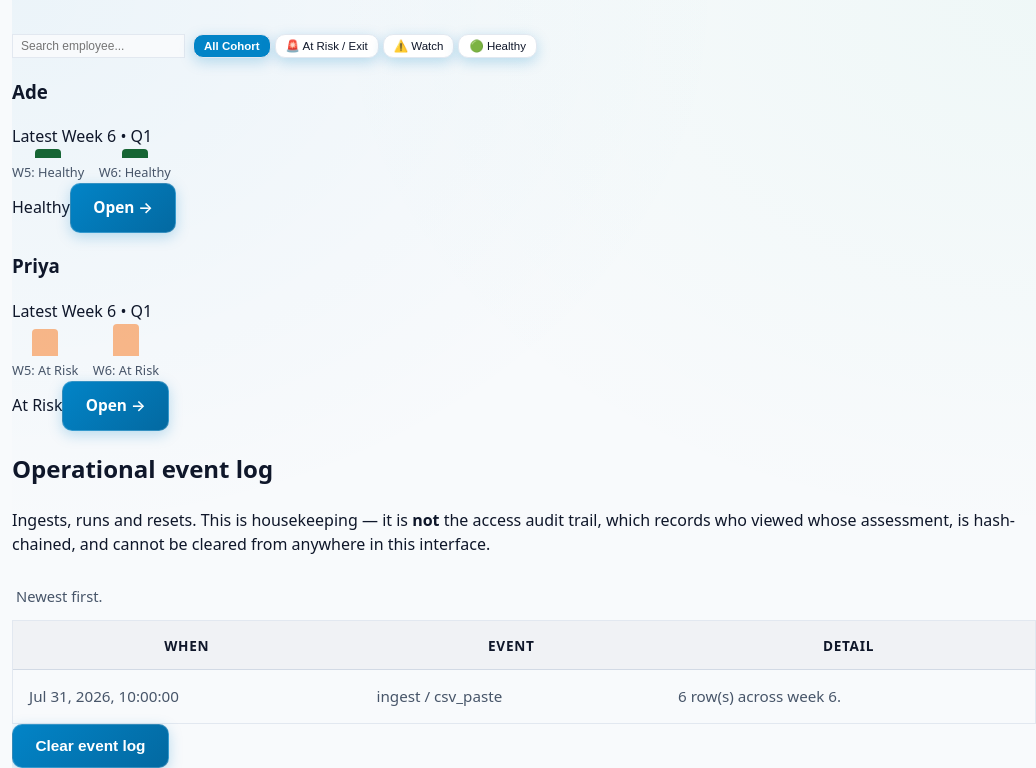
Test: History › asks before clearing the event log
(page scrolled)
Click the button "Clear event log": (90, 746) [12,724,169,767]
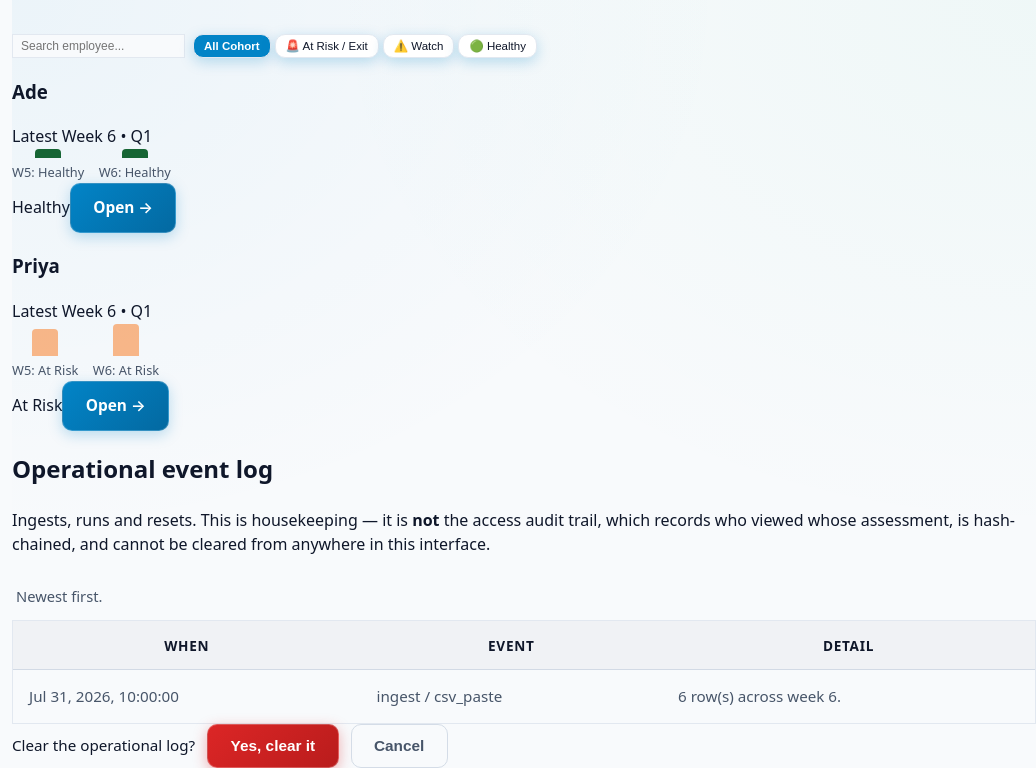
Now the button "Yes, clear it" is shown, box [207,724,338,767]
